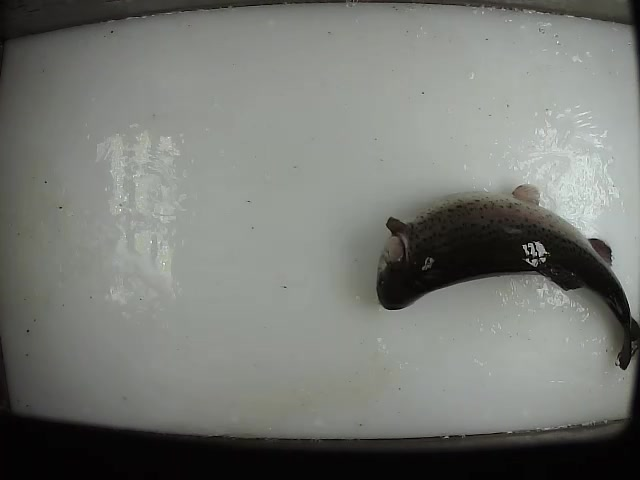fish: (375, 181, 640, 372)
